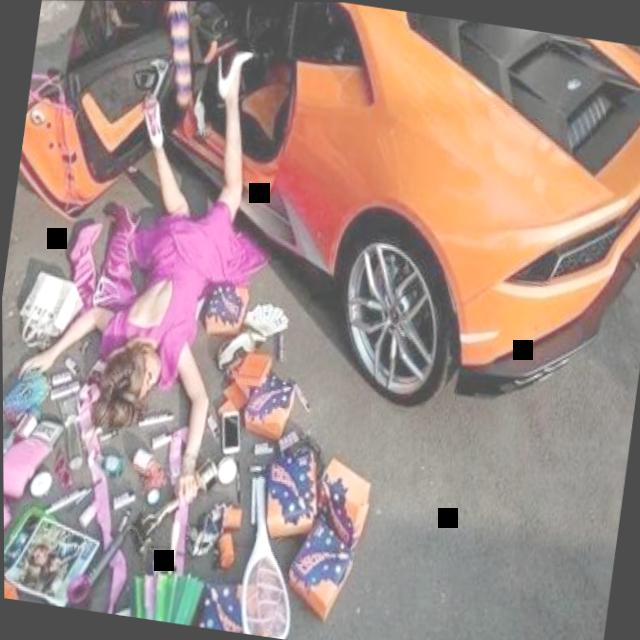Fall-Detected: (0, 0, 327, 503)
